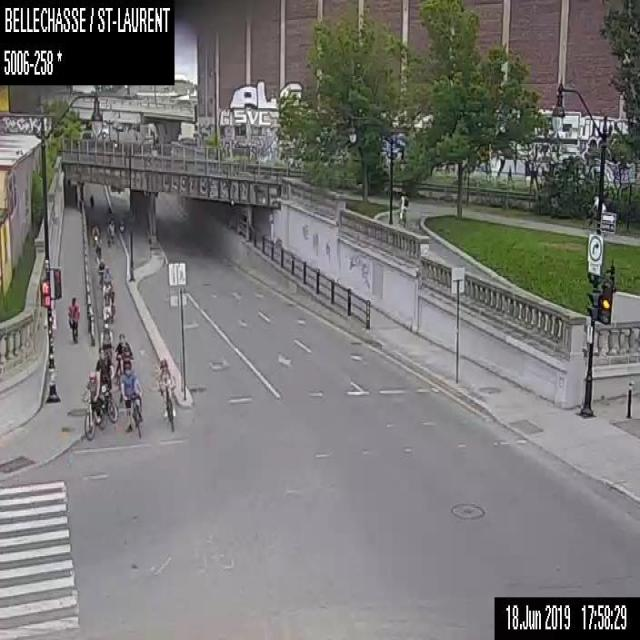cyclist: (95, 346, 118, 423), (120, 363, 142, 437), (82, 372, 106, 439), (158, 358, 175, 432), (114, 332, 133, 384), (102, 283, 114, 323), (100, 322, 112, 362), (120, 345, 134, 374), (398, 191, 408, 225), (103, 265, 114, 288), (98, 258, 105, 285), (107, 219, 114, 245), (94, 244, 101, 267), (92, 225, 98, 245), (89, 194, 93, 208)
pedestrian: (66, 296, 80, 343)
